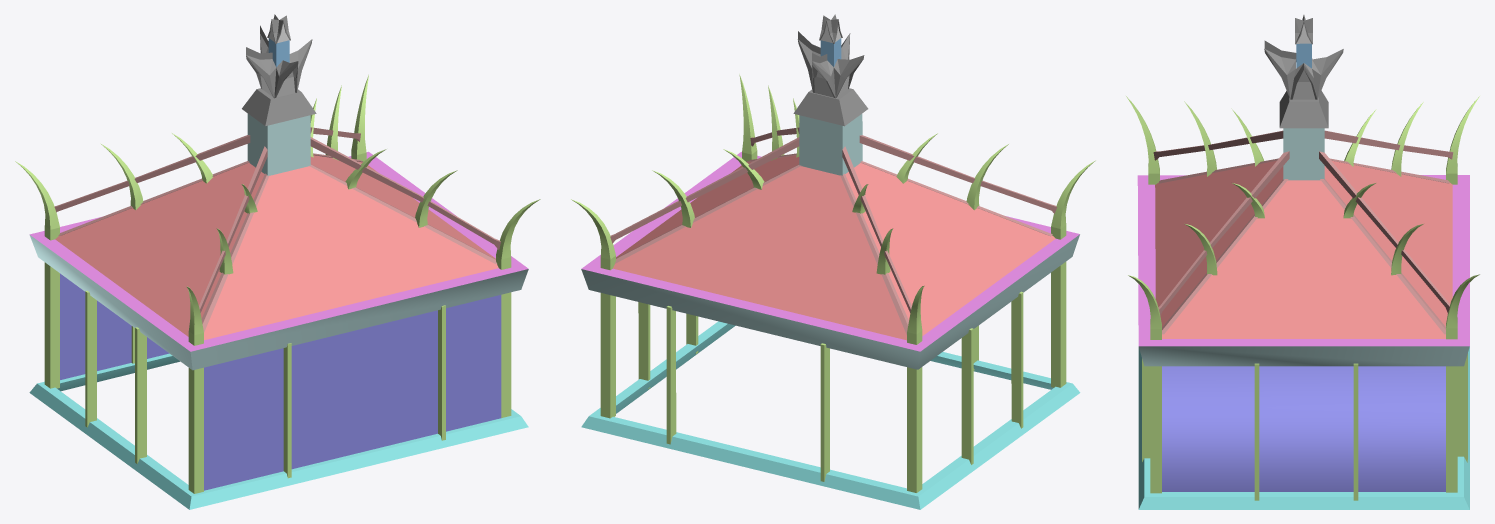
Rendered from topcage_01.gltf.
The picture shows the model from 3 angles, left to right: view 1: azimuth 30°, elevation 25°; view 2: azimuth 150°, elevation 25°; view 3: azimuth 270°, elevation 25°; orthographic projection. The views are drawn at different scales.
Visible parts, largest first — view 1: topcage_01; view 2: topcage_01; view 3: topcage_01.
Part boxes in pixels (x1,y1,x2,y2): topcage_01: (15,14,540,509); topcage_01: (571,14,1095,509); topcage_01: (1126,15,1479,509).
Bounding box in the file's own units: 29.42 × 30.97 × 24.57.
